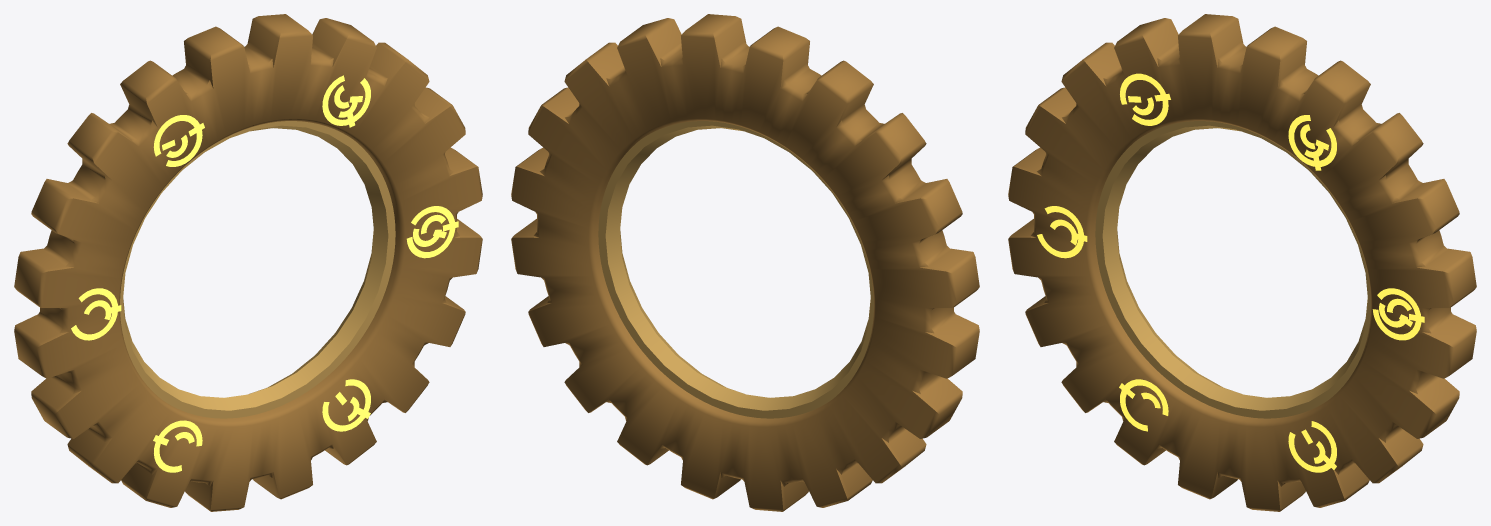
Rendered from part_glyph_cogring.glb.
The picture shows the model from 3 angles, left to right: view 1: azimuth 30°, elevation 25°; view 2: azimuth 150°, elevation 25°; view 3: azimuth 330°, elevation 25°; orthographic projection.
Visible parts, largest first — view 1: part_glyph_cogring; view 2: part_glyph_cogring; view 3: part_glyph_cogring.
Part boxes in pixels (box(x1,y1,x2,y2)): part_glyph_cogring: box(14, 14, 482, 511); part_glyph_cogring: box(511, 14, 979, 511); part_glyph_cogring: box(1008, 14, 1476, 511).
Bounding box in the file's own units: 0.2486 × 0.2486 × 0.0265.
